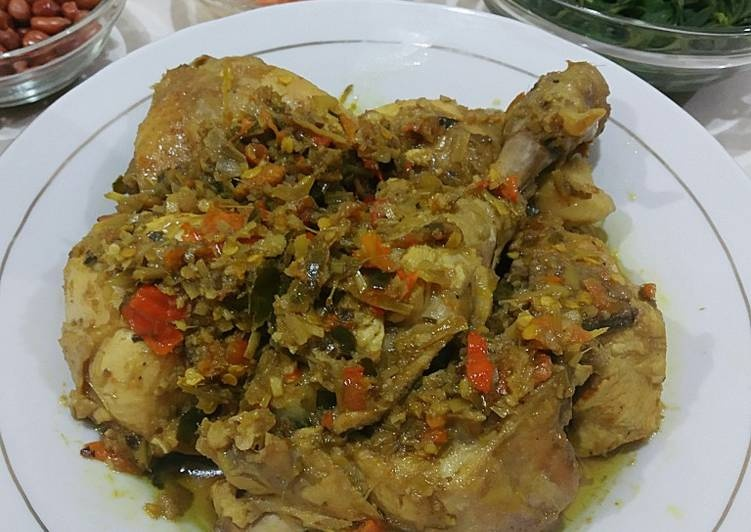ayam_betutu: (60, 58, 665, 532)
